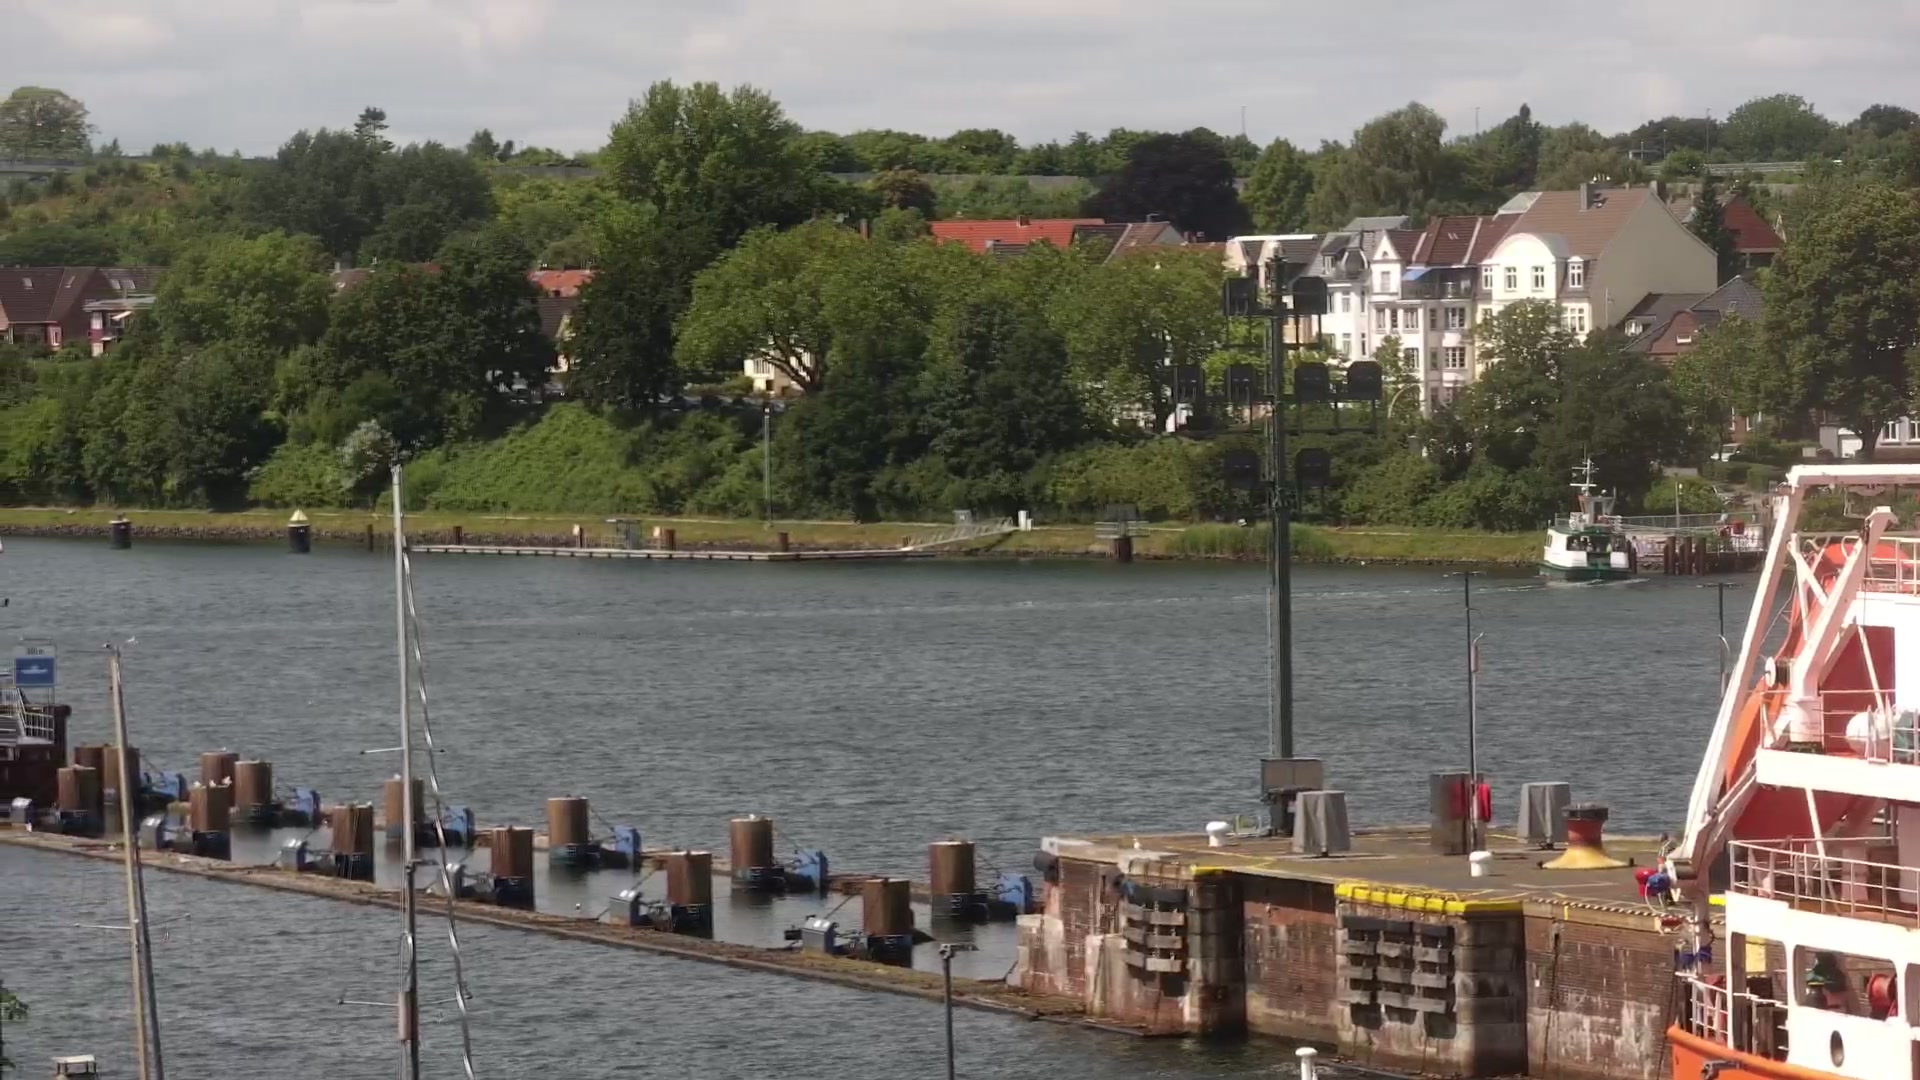land: (1710, 442, 1742, 462)
sea: (1647, 465, 1919, 1080), (1540, 440, 1636, 582)
